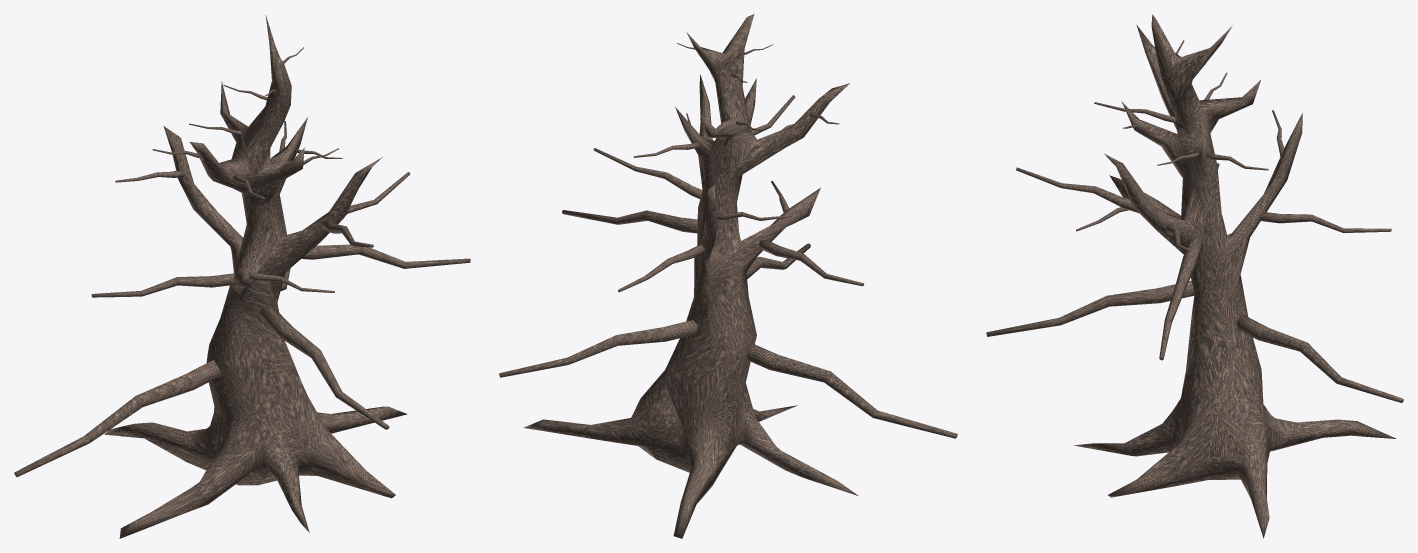
The model's file is tree.glb.
3 renders of one model, left to right at view 1: azimuth 30°, elevation 25°; view 2: azimuth 150°, elevation 25°; view 3: azimuth 270°, elevation 25°, orthographic. The views are drawn at different scales.
Visible parts, largest first — view 1: Cylinder.007; view 2: Cylinder.007; view 3: Cylinder.007.
Part boxes in pixels (x1,y1,x2,y2): Cylinder.007: (14, 15, 470, 538); Cylinder.007: (499, 14, 957, 538); Cylinder.007: (986, 14, 1403, 538).
Size of the model in its own units: 16.81 by 17.26 by 14.25.
Materials: 2 (2 with a texture image).
